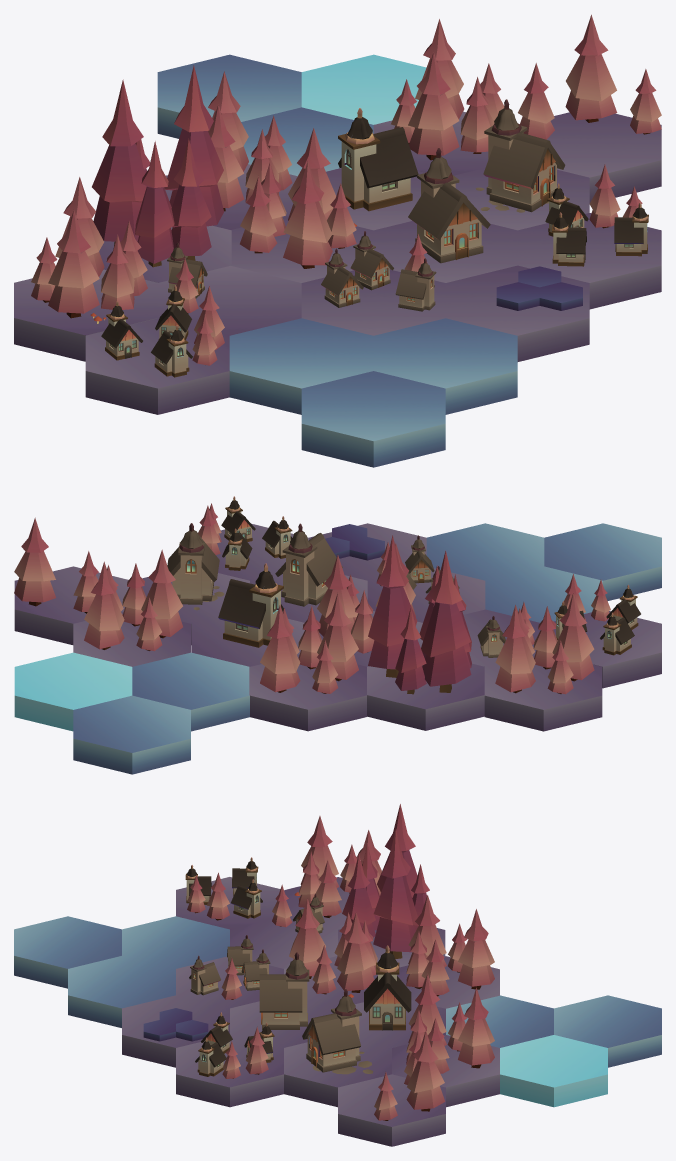
The model's file is FantasyMap.fbx.
The picture shows the model from 3 angles, top to bottom: view 1: azimuth 30°, elevation 25°; view 2: azimuth 150°, elevation 25°; view 3: azimuth 270°, elevation 25°; orthographic projection. The views are drawn at different scales.
Parts seen in each view (by area): view 1: rest.002, leafs.002, water.002, whey.002; view 2: rest.002, leafs.002, water.002, whey.002; view 3: rest.002, leafs.002, water.002, whey.002.
Boxes of the visible parts, x1=… form: rest.002: x1=14, y1=54, x2=661, y2=414; leafs.002: x1=31, y1=14, x2=661, y2=365; water.002: x1=157, y1=54, x2=517, y2=467; whey.002: x1=496, y1=266, x2=582, y2=310; rest.002: x1=14, y1=496, x2=661, y2=731; leafs.002: x1=14, y1=503, x2=610, y2=694; water.002: x1=73, y1=523, x2=661, y2=774; whey.002: x1=325, y1=524, x2=384, y2=560; rest.002: x1=122, y1=857, x2=607, y2=1146; leafs.002: x1=187, y1=804, x2=494, y2=1120; water.002: x1=14, y1=916, x2=661, y2=1067; whey.002: x1=143, y1=1008, x2=208, y2=1041.
Size of the model in its own units: 543 by 150 by 594.
